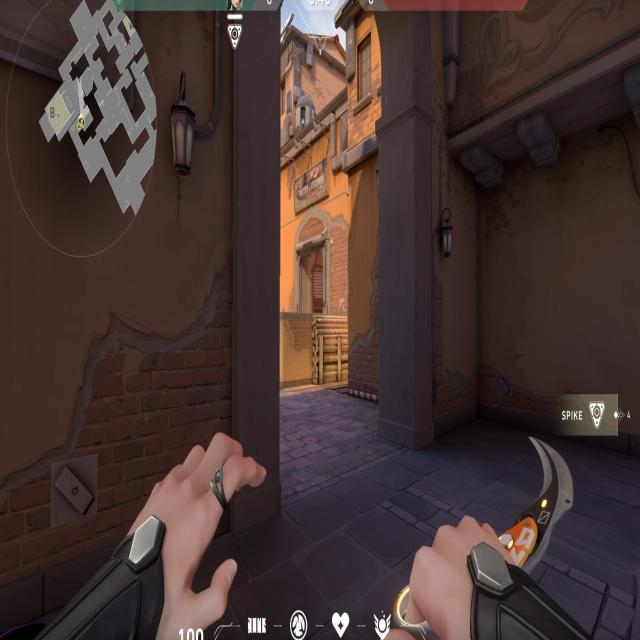B_Cubby: (280, 302, 357, 394)
